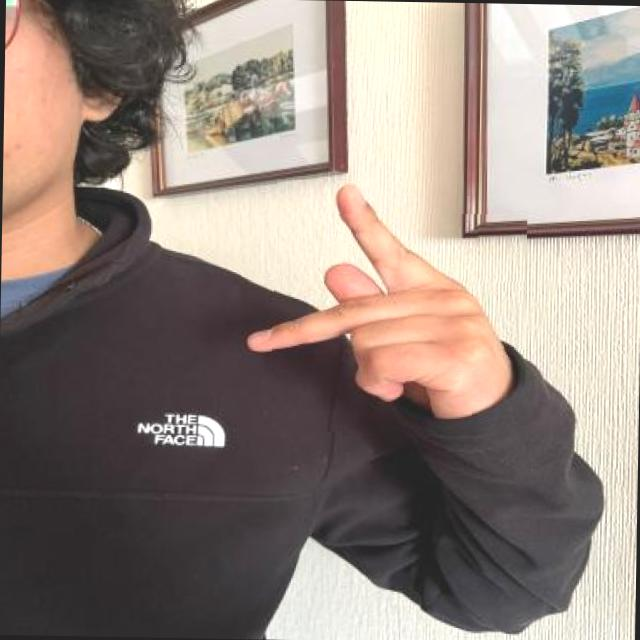K: (238, 178, 528, 436)
